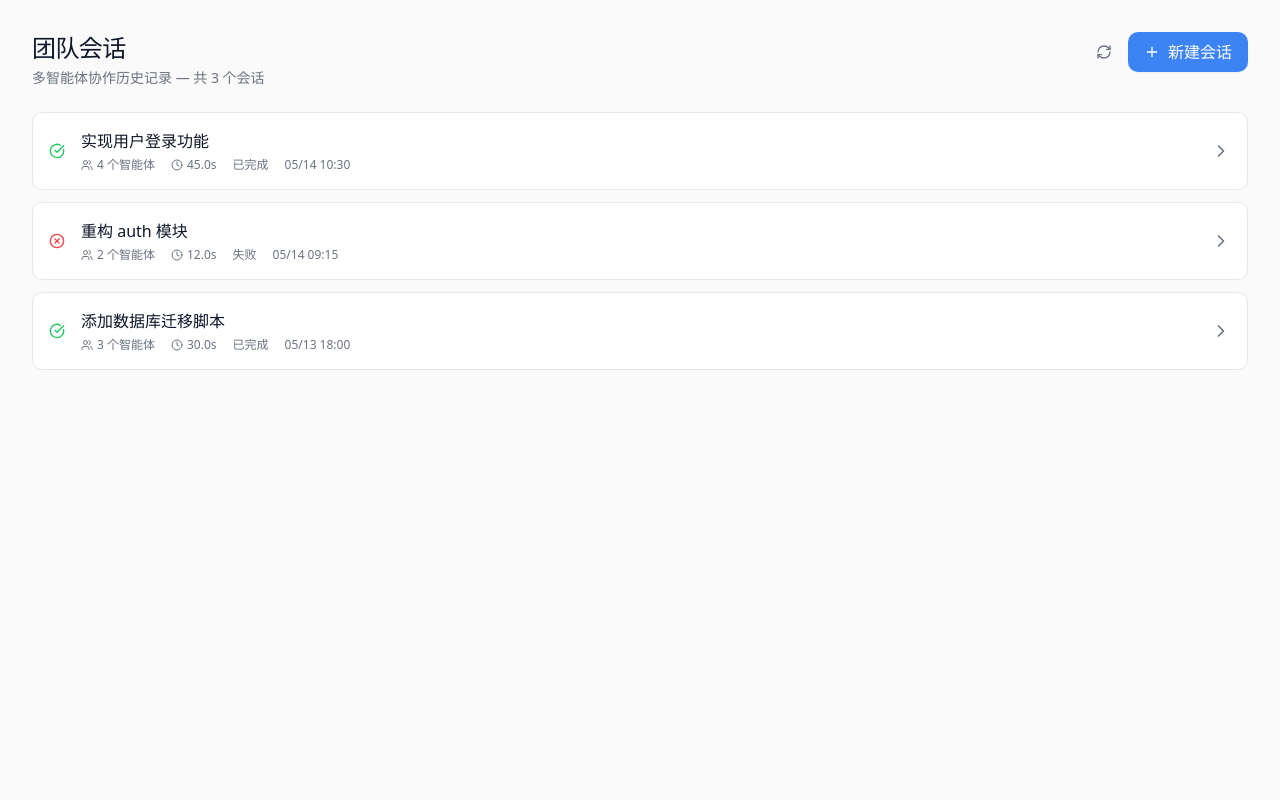
it: TeamSessionsPage › create session modal › opens create modal when clicking new session button
This screenshot has width=1280, height=800.
What coordinates should you click on to do the following:
click the button "新建会话"
I would click on:
 (1188, 52)
Its box is [1128, 32, 1248, 72].
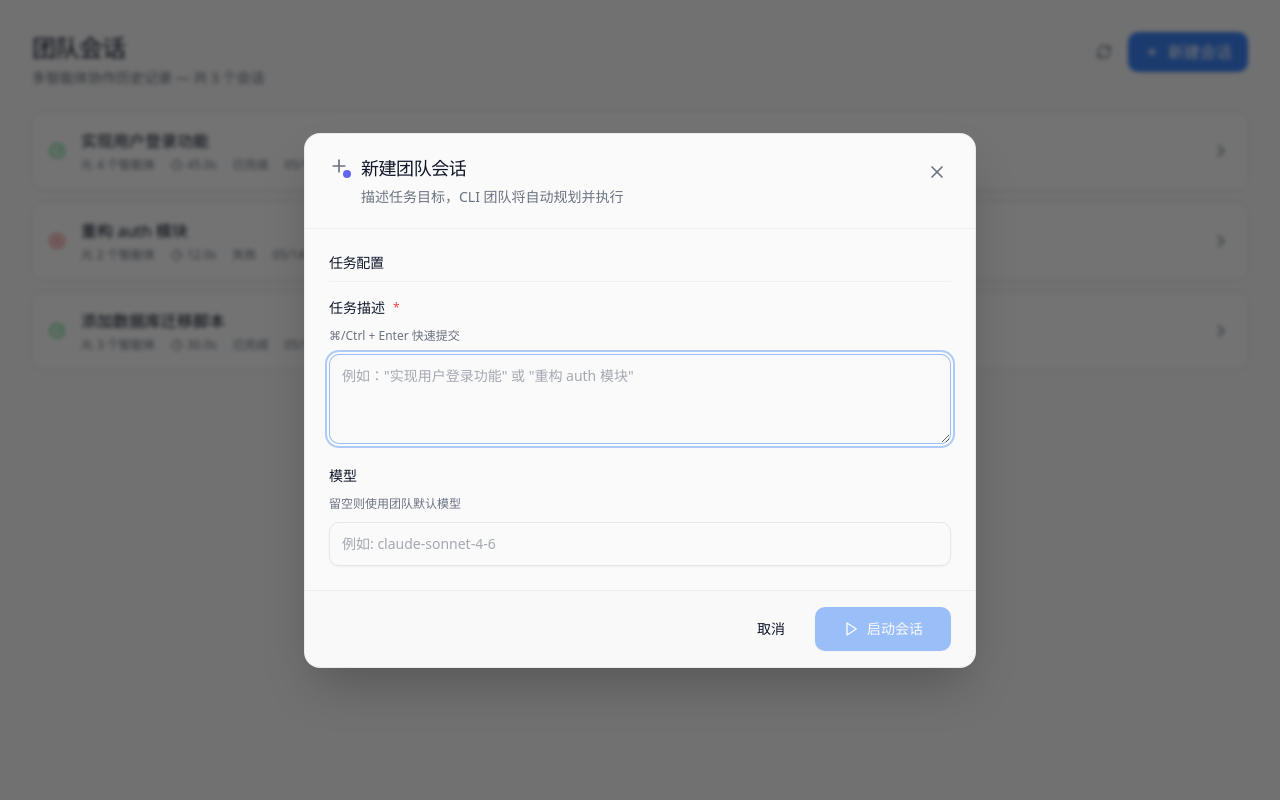
Now the heading "新建团队会话" is shown, box [361, 156, 466, 180]
